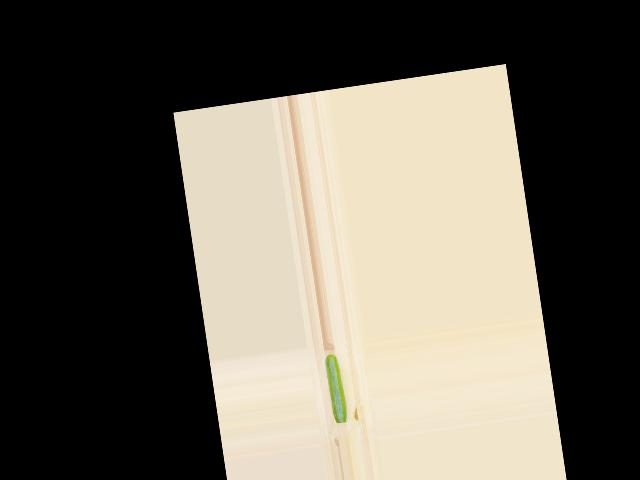cucumber: (324, 353, 348, 423)
